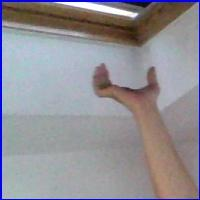space: (84, 60, 165, 110)
